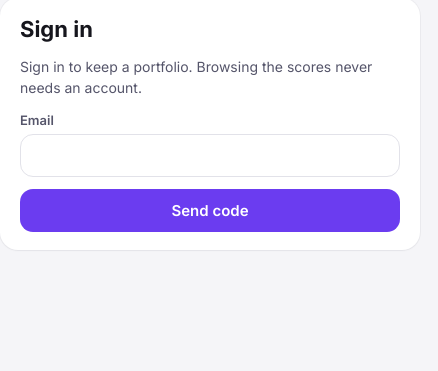
it: LoginView › sends a code to the email, then asks for it
Type "a@example.test" into the field labelled "Email".
click(210, 156); type("a@example.test")  # box [20,134,400,177]
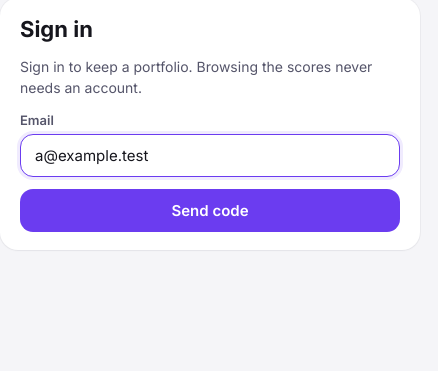
Click the button "Send code".
click(210, 210)  # box [20,189,400,232]
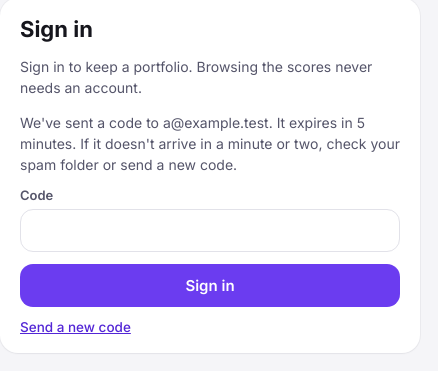
Expected: the field labelled "Code" is shown, [20,209,400,252]
